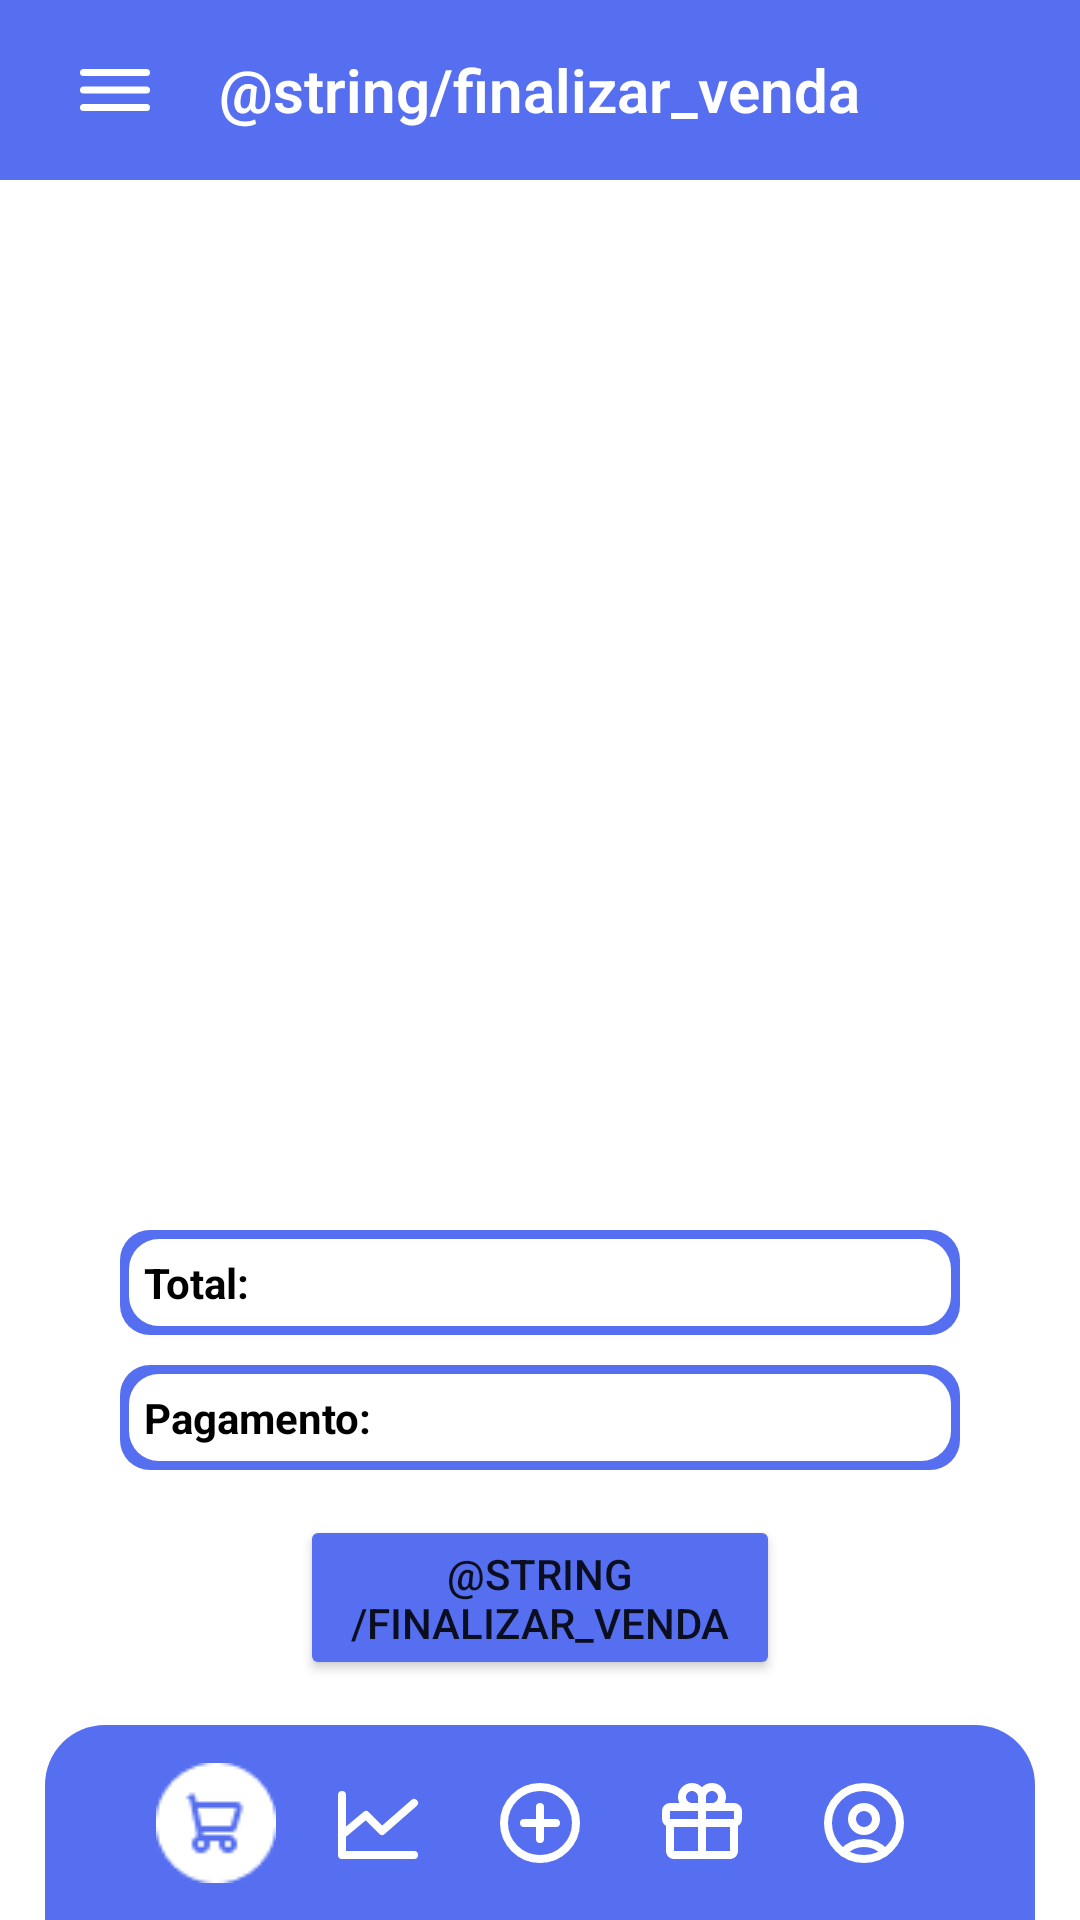

Icons on this 1080*1920 Android screen, each with its box as [x1, y1, x2, y2]:
add plus circle: [500, 1783, 580, 1863]
chart line: [338, 1791, 418, 1859]
gift: [662, 1783, 742, 1859]
hamburger lg: [80, 69, 150, 111]
shopping cart: [156, 1763, 276, 1883]
usercircle: [824, 1783, 904, 1863]
